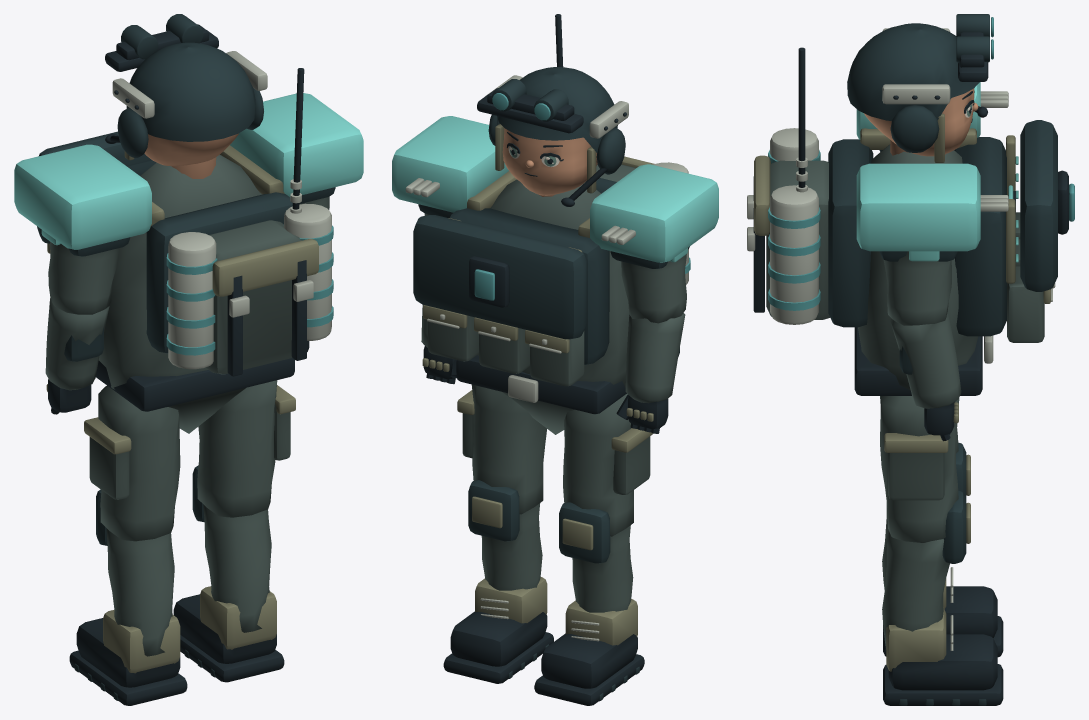
The model's file is kf-aegis.glb.
The picture shows the model from 3 angles, left to right: view 1: azimuth 30°, elevation 25°; view 2: azimuth 150°, elevation 25°; view 3: azimuth 270°, elevation 25°; orthographic projection. The views are drawn at different scales.
Visible parts, largest first — view 1: ArmorPlates Unit insignia, Torso Woven uniform, Head Ceramic armor, Leg_R Woven uniform, Leg_L Woven uniform, Torso Rubber and hair, Actor Brushed fittings, Knee_L Woven uniform, Knee_R Woven uniform, Torso Ceramic armor, Torso Webbing, Knee_R Rubber and hair (+14 smaller); view 2: ArmorPlates Unit insignia, ArmorPlates Ceramic armor, Torso Woven uniform, Leg_R Woven uniform, Leg_L Woven uniform, Head Ceramic armor, Torso Ceramic armor, Knee_R Rubber and hair, Knee_L Rubber and hair, Elbow_R Woven uniform, Head Skin, Torso Rubber and hair (+18 smaller); view 3: Torso Ceramic armor, ArmorPlates Unit insignia, Head Ceramic armor, Torso Woven uniform, Leg_L Woven uniform, Knee_L Rubber and hair, ArmorPlates Ceramic armor, Actor Brushed fittings, Knee_L Woven uniform, Torso Rubber and hair, Elbow_L Woven uniform, Arm_L Woven uniform (+13 smaller).
Boxes of the visible parts, x1,y1,x2,y2 form: ArmorPlates Unit insignia: [14, 93, 363, 249]; Torso Woven uniform: [99, 154, 301, 433]; Head Ceramic armor: [117, 14, 263, 157]; Leg_R Woven uniform: [89, 385, 180, 541]; Leg_L Woven uniform: [197, 380, 290, 517]; Torso Rubber and hair: [95, 68, 306, 411]; Actor Brushed fittings: [168, 203, 331, 369]; Knee_L Woven uniform: [203, 504, 271, 632]; Knee_R Woven uniform: [106, 528, 174, 656]; Torso Ceramic armor: [126, 160, 292, 353]; Torso Webbing: [47, 145, 318, 296]; Knee_R Rubber and hair: [69, 618, 187, 705]; ArmorPlates Unit insignia: [392, 116, 718, 262]; ArmorPlates Ceramic armor: [413, 215, 586, 339]; Torso Woven uniform: [428, 164, 635, 434]; Leg_R Woven uniform: [563, 393, 650, 536]; Leg_L Woven uniform: [462, 384, 546, 514]; Head Ceramic armor: [488, 67, 625, 174]; Torso Ceramic armor: [450, 178, 616, 364]; Knee_R Rubber and hair: [534, 633, 644, 705]; Knee_L Rubber and hair: [443, 611, 553, 683]; Elbow_R Woven uniform: [625, 313, 685, 403]; Head Skin: [502, 128, 597, 195]; Torso Rubber and hair: [456, 14, 626, 414]; Torso Ceramic armor: [828, 137, 1006, 336]; ArmorPlates Unit insignia: [856, 82, 980, 251]; Head Ceramic armor: [847, 14, 989, 152]; Torso Woven uniform: [766, 144, 1044, 390]; Leg_L Woven uniform: [880, 396, 959, 542]; Knee_L Rubber and hair: [883, 634, 1003, 705]; ArmorPlates Ceramic armor: [1020, 120, 1057, 291]; Actor Brushed fittings: [770, 128, 818, 324]; Knee_L Woven uniform: [882, 531, 949, 649]; Torso Rubber and hair: [753, 47, 1015, 395]; Elbow_L Woven uniform: [890, 312, 961, 408]; Arm_L Woven uniform: [883, 251, 951, 325].
Size of the model in its own units: 0.93 by 1.9 by 0.8715.
